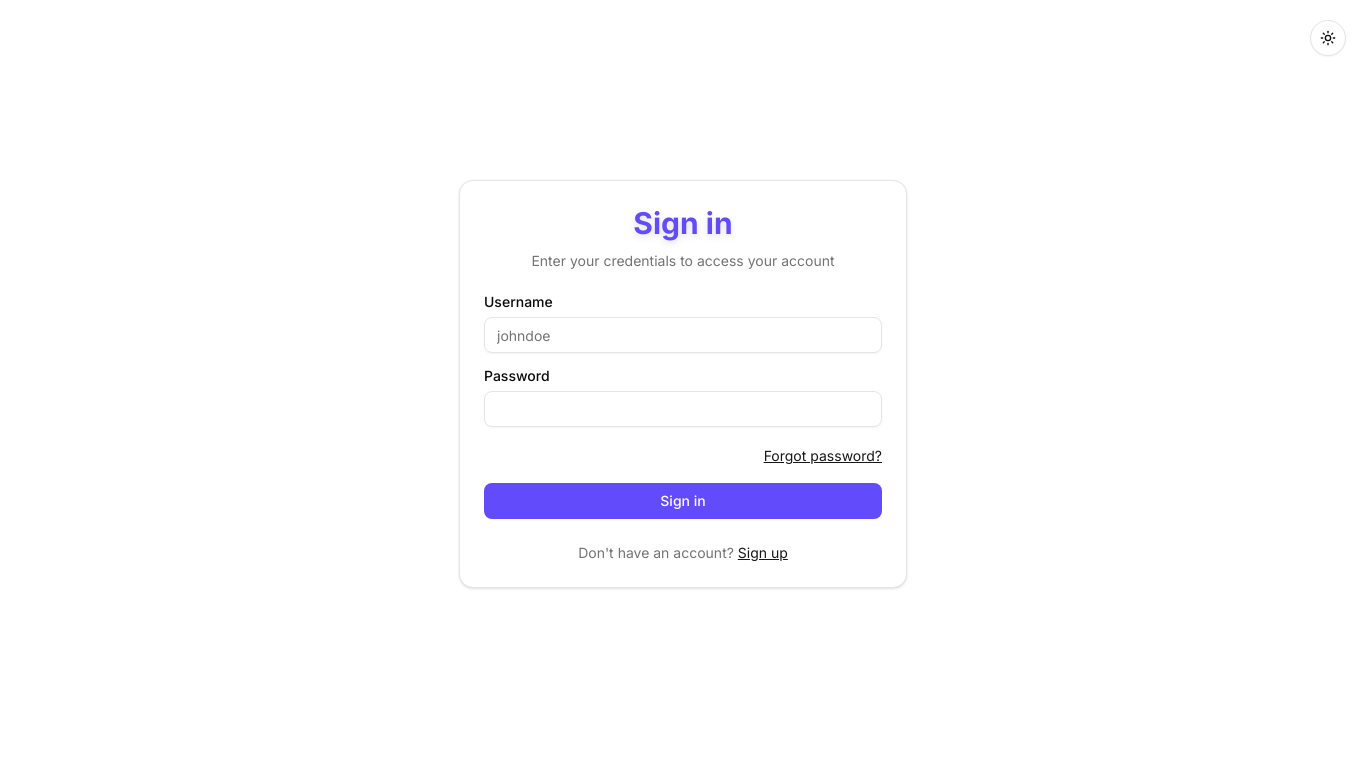
Test: SignInPage › shows error message when sign-in fails
The image size is (1366, 768).
Note: Fill in the form
In the field labelled "Username": (683, 335) top-left (484, 317), bottom-right (882, 353), type "testuser"
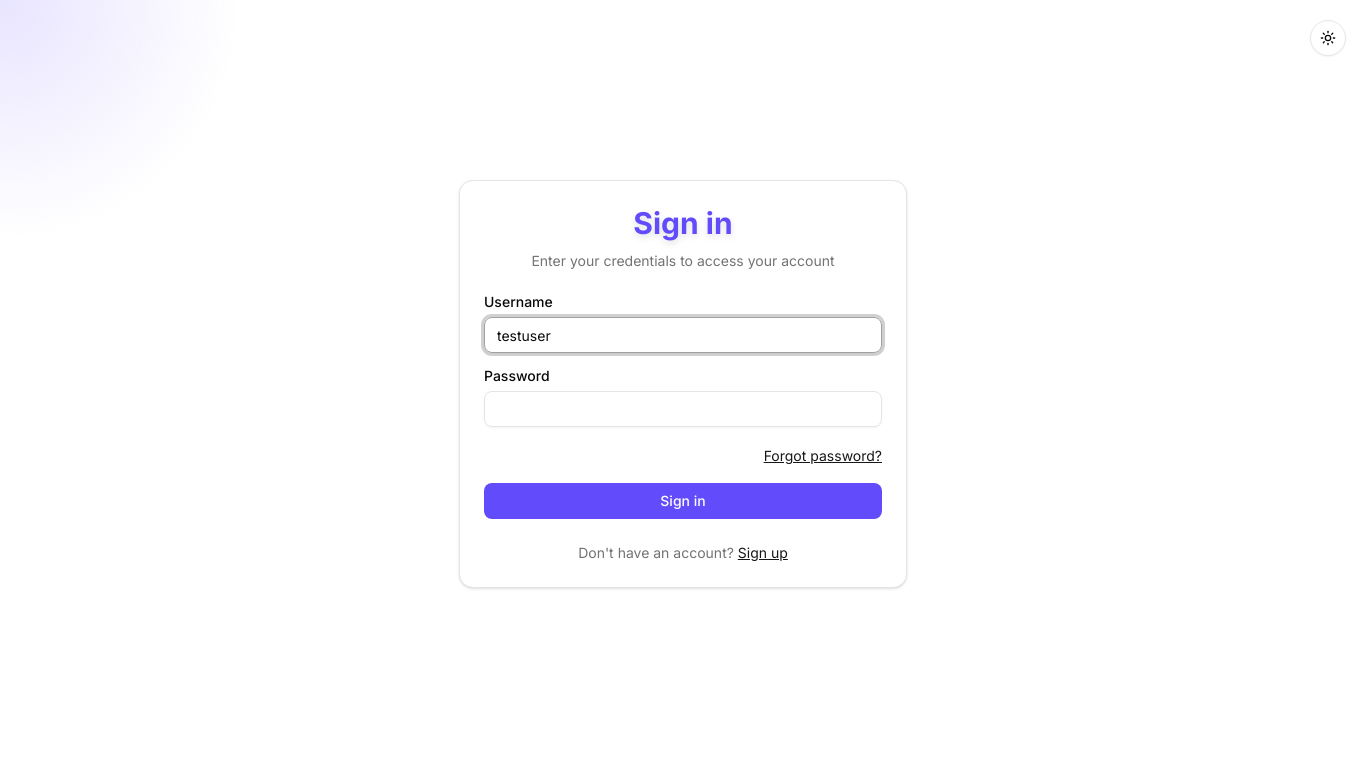
In the password field labelled "Password": (683, 409) top-left (484, 391), bottom-right (882, 427), type "wrongpassword"
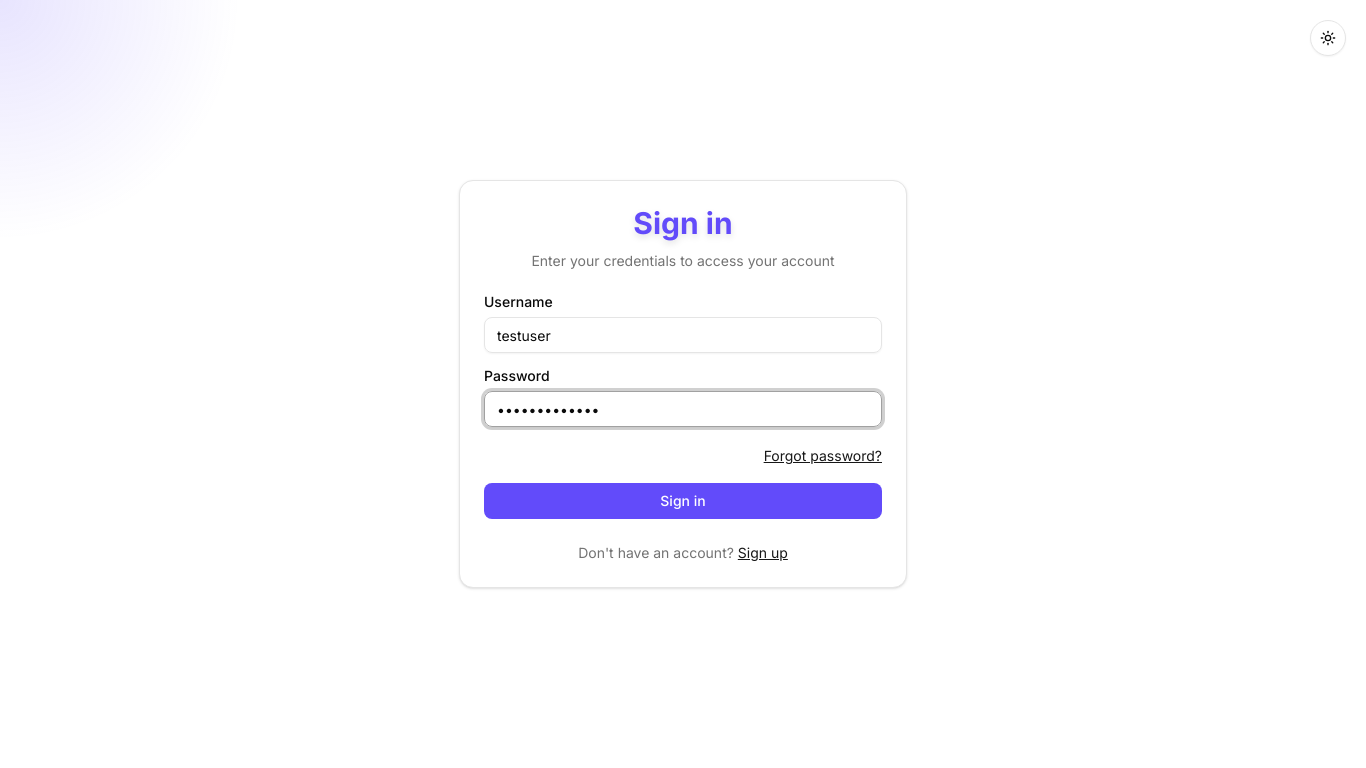
Note: Submit the form
Click the button "Sign in": (683, 501) top-left (484, 483), bottom-right (882, 519)
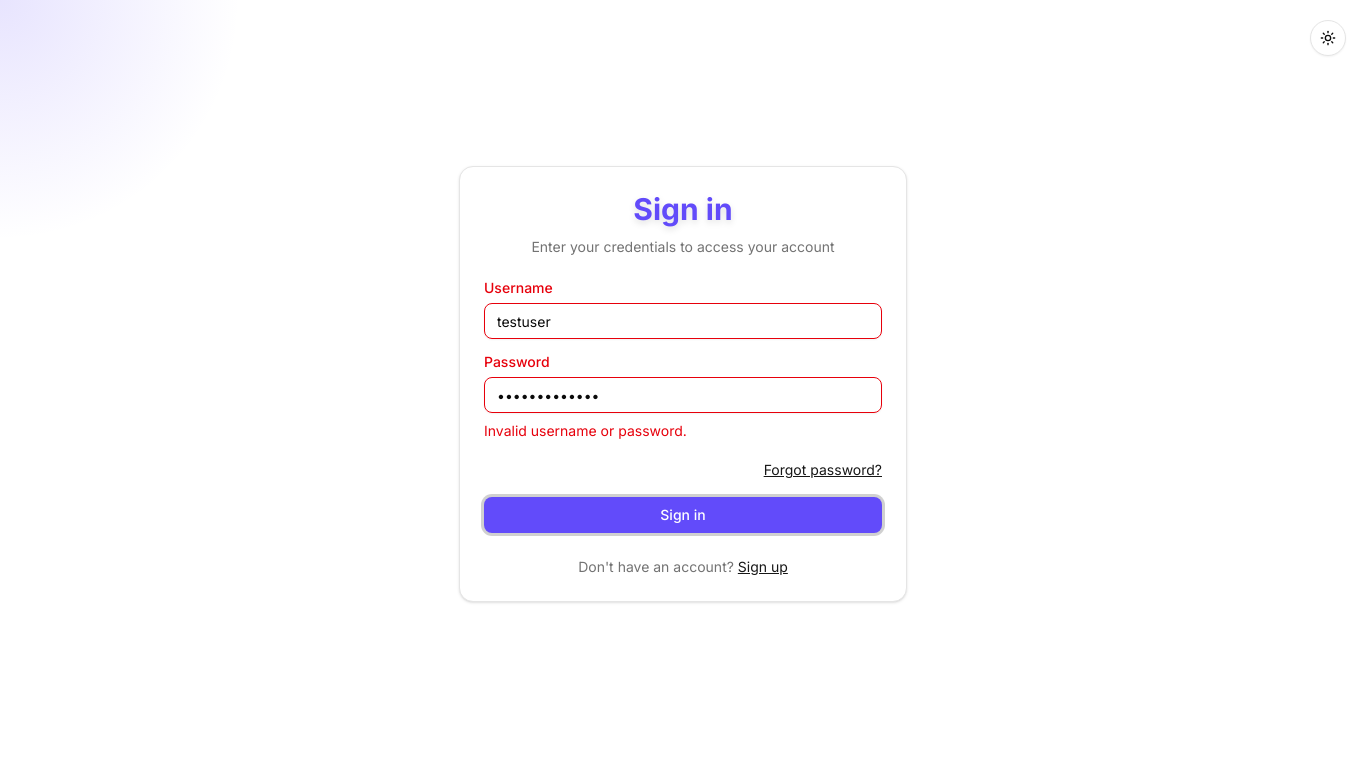
Result: the text "Invalid username or password." is shown at top-left (484, 422), bottom-right (687, 439)
